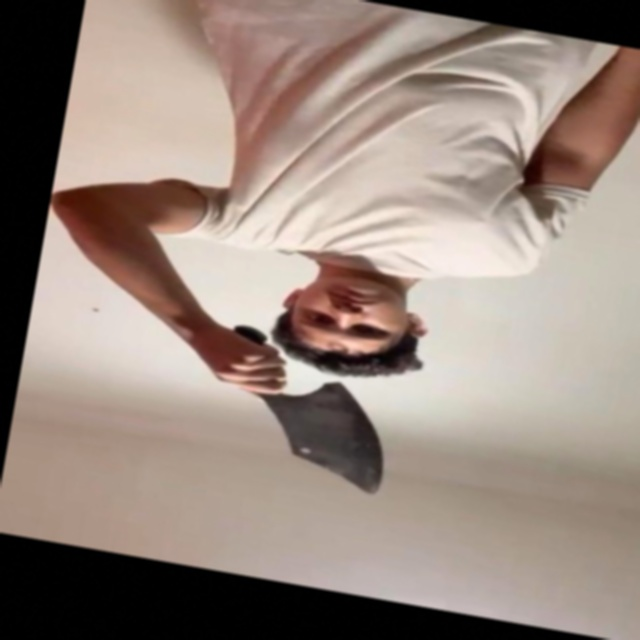Sharp-Object: (256, 370, 400, 497)
